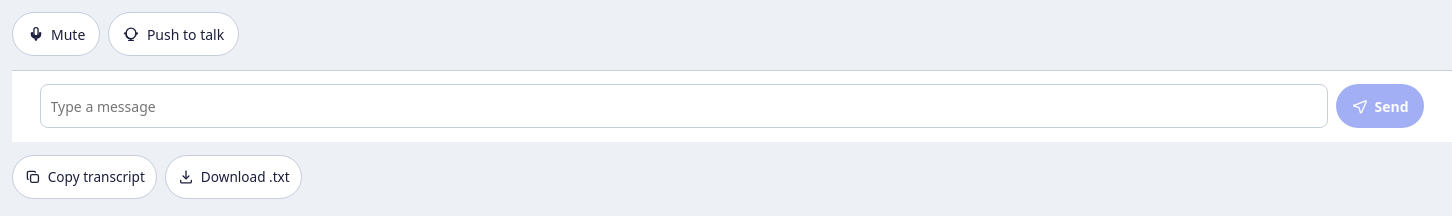
Test case: transcript export › confirms a copy briefly
The width and height of the screenshot is (1452, 216).
Click the button named "Copy transcript to clipboard": (84, 177) [12,155,157,199]
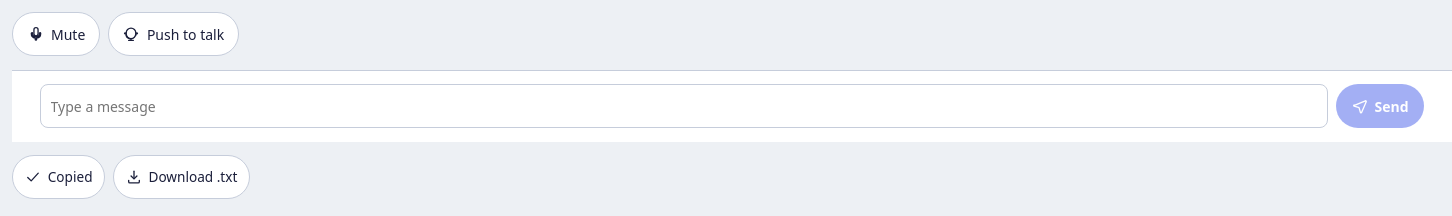
Check: the button named "Copy transcript to clipboard" reads "Copied", box [12,155,105,199]
